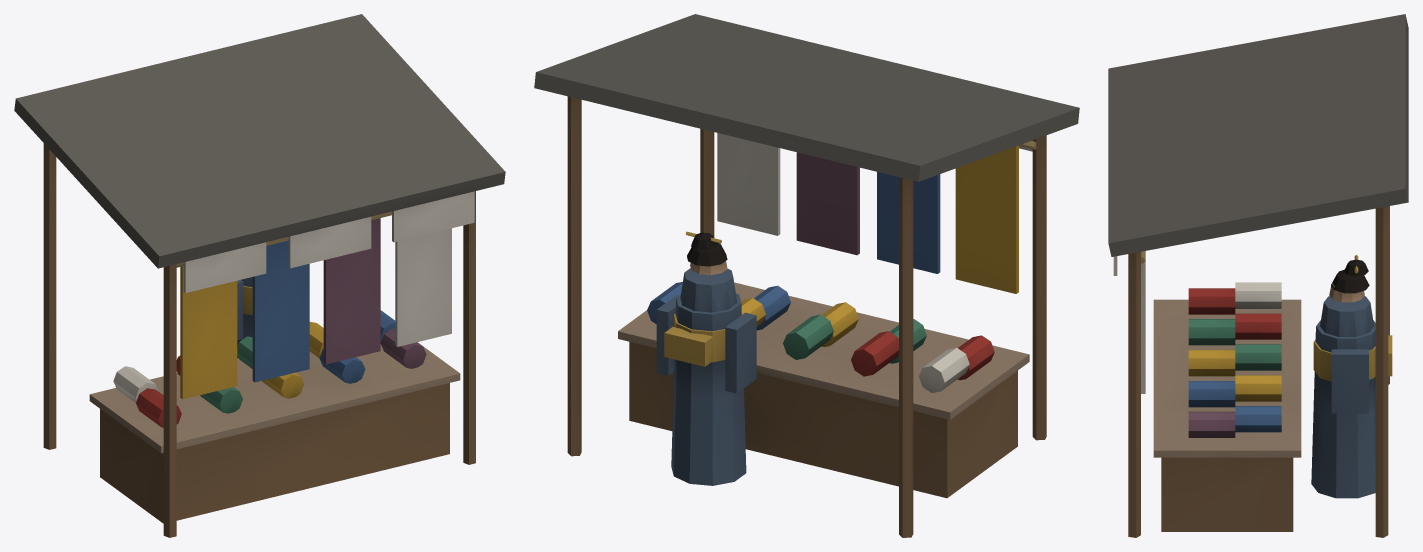
File: stall-cloth.glb
3 views of the same model, side by side, from view 1: azimuth 30°, elevation 25°; view 2: azimuth 150°, elevation 25°; view 3: azimuth 270°, elevation 25° (orthographic). The views are drawn at different scales.
Visible parts, largest first — view 1: base; view 2: base; view 3: base.
Boxes of the visible parts, x1=… form: base: x1=14, y1=14, x2=505, y2=537; base: x1=534, y1=14, x2=1079, y2=537; base: x1=1108, y1=14, x2=1408, y2=537.
Size of the model in its own units: 2.66 by 2.55 by 1.93.
